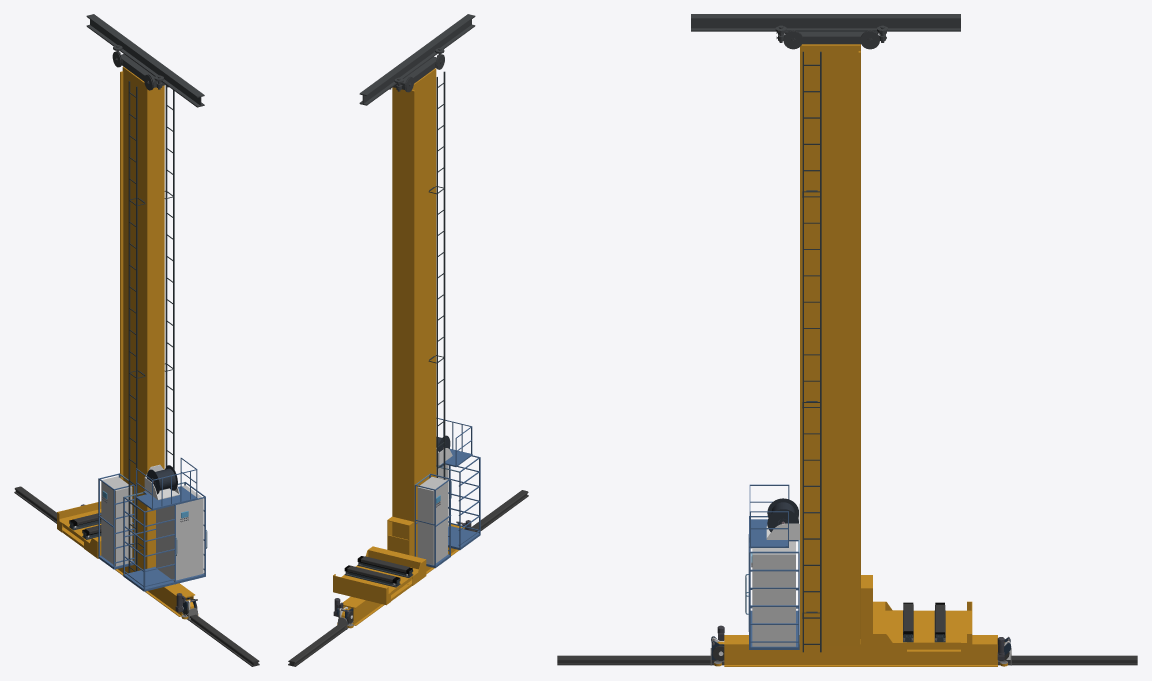
File: 堆垛机.fbx
The picture shows the model from 3 angles, left to right: view 1: azimuth 30°, elevation 25°; view 2: azimuth 150°, elevation 25°; view 3: azimuth 270°, elevation 25°; orthographic projection. The views are drawn at different scales.
Visible parts, largest first — view 1: column, electric_8, ladder_2, electric, ladder, up_track, track, body, body_37, body_55, wheel, body_72 (+2 smaller); view 2: column, body, electric, ladder_2, up_track, track, body_37, body_72, body_73; view 3: column, body, up_track, body_72, electric_8, ladder, track, body_73.
Part boxes in pixels (x1,y1,x2,y2): column: (120, 66, 164, 570); electric_8: (156, 485, 203, 580); ladder_2: (128, 81, 145, 572); electric: (101, 476, 132, 566); ladder: (164, 85, 174, 469); up_track: (86, 14, 204, 107); track: (14, 486, 259, 666); body: (57, 501, 101, 558); body_37: (123, 566, 204, 591); body_55: (136, 486, 197, 509); wheel: (147, 465, 177, 494); body_72: (118, 565, 193, 615); column: (392, 68, 436, 556); body: (333, 516, 426, 605); electric: (417, 477, 447, 564); ladder_2: (428, 71, 445, 479); up_track: (359, 14, 475, 105); track: (288, 490, 528, 666); body_37: (448, 526, 480, 549); body_72: (343, 547, 456, 624); body_73: (393, 57, 436, 89); column: (800, 44, 860, 646); body: (861, 575, 972, 654); up_track: (691, 14, 960, 31); body_72: (724, 645, 997, 664); electric_8: (752, 541, 795, 646); ladder: (802, 51, 821, 652); track: (557, 655, 1137, 665); body_73: (798, 31, 864, 44).
Size of the model in its own units: 151 by 1229 by 1000.
